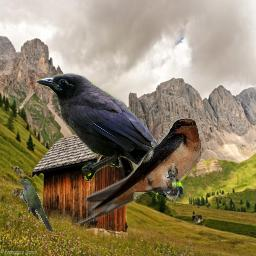Crow: (36, 73, 185, 199)
Cuckoo: (17, 179, 55, 232)
Swallow: (71, 118, 201, 224)
